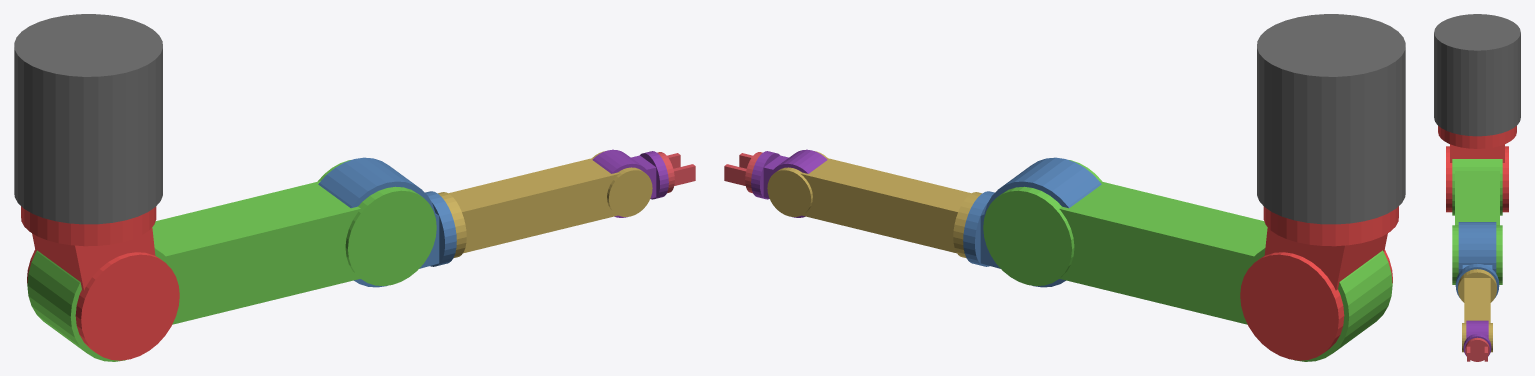
Rendered from robot_model.dae.
3 views of the same model, side by side, from view 1: azimuth 30°, elevation 25°; view 2: azimuth 150°, elevation 25°; view 3: azimuth 270°, elevation 25° (orthographic). The views are drawn at different scales.
Parts seen in each view (by area): view 1: Link_2, Link_0, Link_1, Link_4, Link_3, Link_5, Link_6; view 2: Link_2, Link_0, Link_1, Link_4, Link_3, Link_5, Link_6; view 3: Link_0, Link_2, Link_1, Link_3, Link_4, Link_5, Link_6.
Boxes of the visible parts, x1=… form: Link_2: x1=27, y1=160, x2=436, y2=361; Link_0: x1=14, y1=14, x2=162, y2=224; Link_1: x1=21, y1=206, x2=179, y2=360; Link_4: x1=438, y1=151, x2=652, y2=258; Link_3: x1=318, y1=157, x2=456, y2=287; Link_5: x1=592, y1=149, x2=668, y2=217; Link_6: x1=657, y1=152, x2=695, y2=193; Link_2: x1=983, y1=160, x2=1392, y2=361; Link_0: x1=1257, y1=14, x2=1405, y2=224; Link_1: x1=1240, y1=206, x2=1398, y2=360; Link_4: x1=767, y1=151, x2=981, y2=258; Link_3: x1=963, y1=157, x2=1101, y2=287; Link_5: x1=751, y1=149, x2=827, y2=217; Link_6: x1=724, y1=152, x2=762, y2=193; Link_0: x1=1434, y1=14, x2=1520, y2=136; Link_2: x1=1452, y1=159, x2=1502, y2=284; Link_1: x1=1438, y1=126, x2=1516, y2=212; Link_3: x1=1455, y1=222, x2=1499, y2=298; Link_4: x1=1458, y1=269, x2=1496, y2=352; Link_5: x1=1463, y1=320, x2=1491, y2=356; Link_6: x1=1465, y1=337, x2=1489, y2=361.
Bounding box in the file's own units: 113 × 22 × 49.24.
